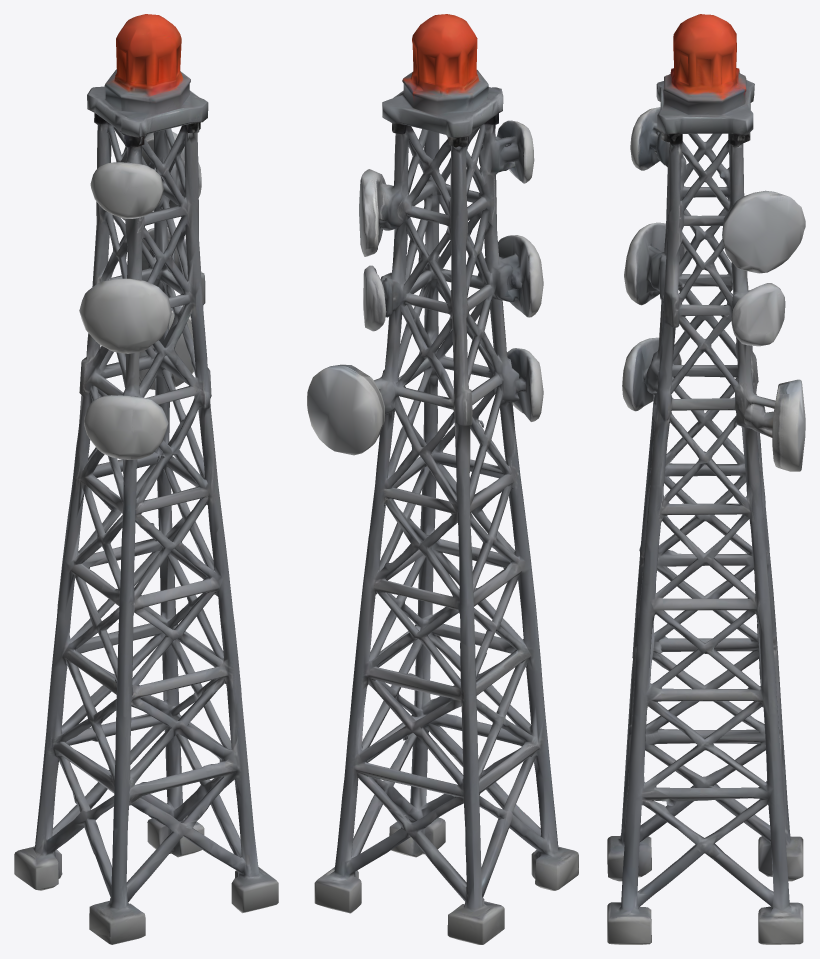
The model's file is relay.glb.
3 renders of one model, left to right at view 1: azimuth 30°, elevation 25°; view 2: azimuth 150°, elevation 25°; view 3: azimuth 270°, elevation 25°, orthographic.
Parts seen in each view (by area): view 1: tripo_node_a849a7d5-ef95-4d9c-bd27-94038421f26c; view 2: tripo_node_a849a7d5-ef95-4d9c-bd27-94038421f26c; view 3: tripo_node_a849a7d5-ef95-4d9c-bd27-94038421f26c.
Boxes of the visible parts, <box> form: tripo_node_a849a7d5-ef95-4d9c-bd27-94038421f26c: <box>14,14,278,944</box>; tripo_node_a849a7d5-ef95-4d9c-bd27-94038421f26c: <box>307,14,578,944</box>; tripo_node_a849a7d5-ef95-4d9c-bd27-94038421f26c: <box>607,14,805,944</box>.
Size of the model in its own units: 1.71 by 8 by 1.61.
1 material, 1 textured.
